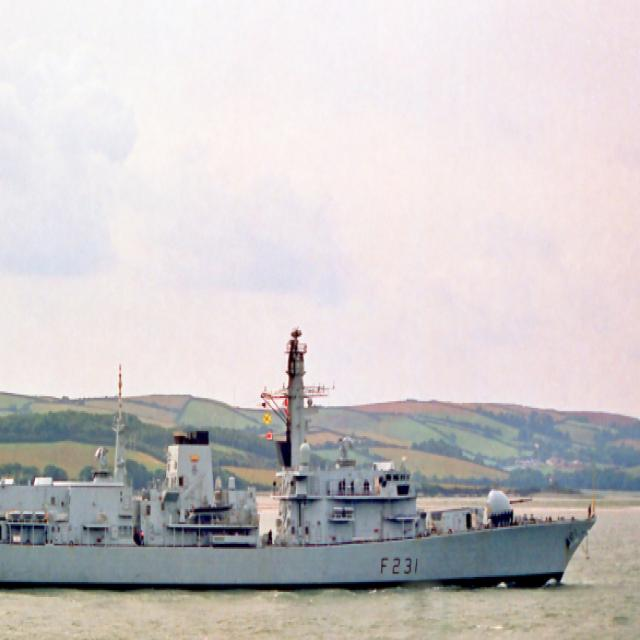Fragata: (1, 313, 603, 591)
